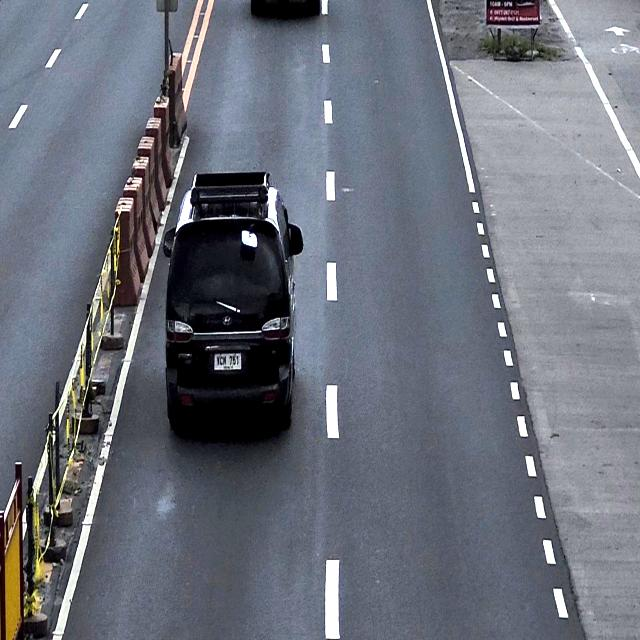Car: (163, 171, 303, 431)
License-Plate: (213, 349, 242, 372)
